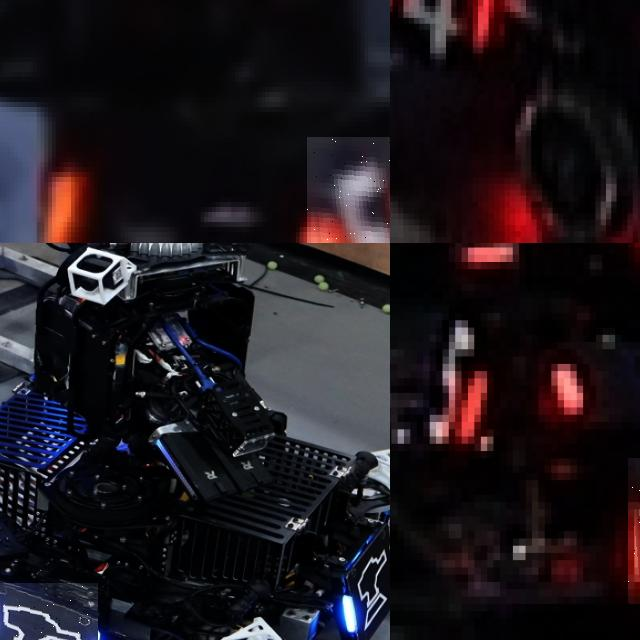Bs: (0, 583, 98, 640), (343, 540, 390, 636)
R4: (390, 0, 507, 71)
R5: (307, 137, 390, 243)
